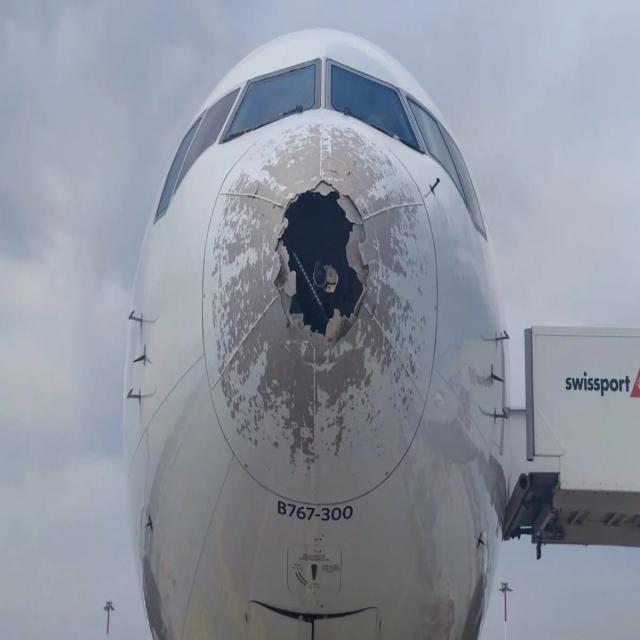crack: (276, 175, 375, 355)
dent: (213, 129, 430, 480)
